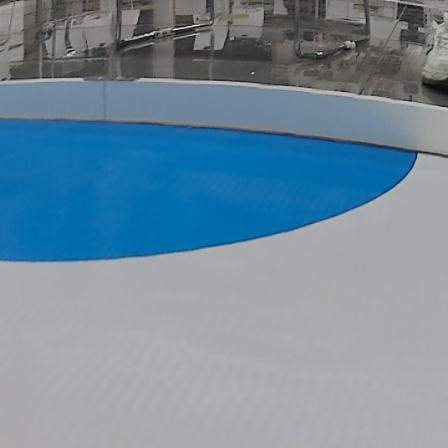blue_base: (1, 118, 419, 264)
